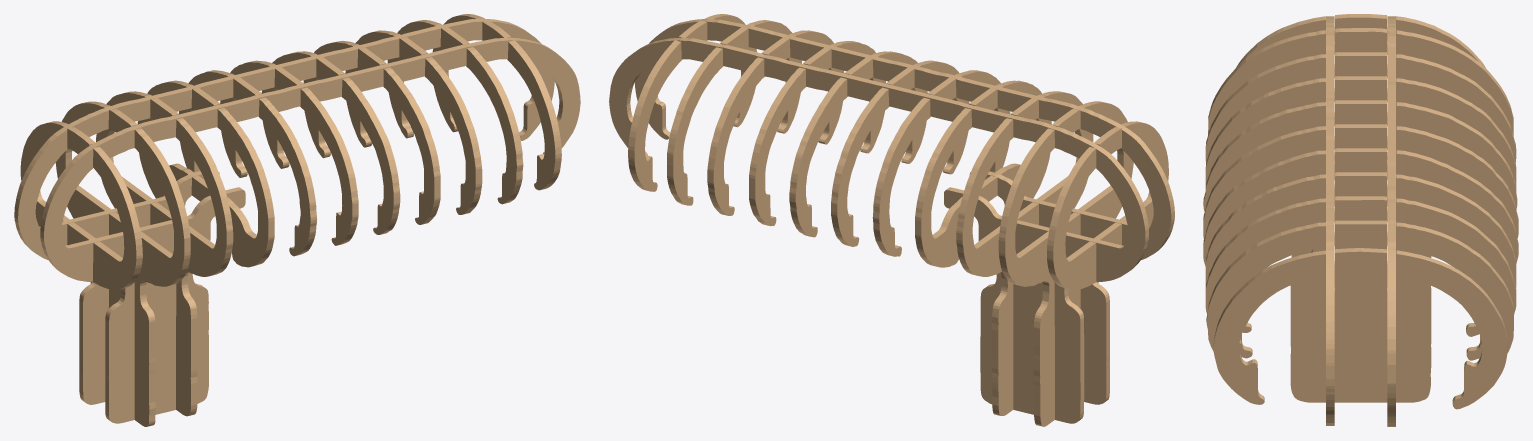
Rendered from samla.glb.
The picture shows the model from 3 angles, left to right: view 1: azimuth 30°, elevation 25°; view 2: azimuth 150°, elevation 25°; view 3: azimuth 270°, elevation 25°; orthographic projection. The views are drawn at different scales.
Visible parts, largest first — view 1: slicer-pillestemning; view 2: slicer-pillestemning; view 3: slicer-pillestemning.
Boxes of the visible parts, left/top/right/bottom form: slicer-pillestemning: left=14, top=14, right=580, bottom=426; slicer-pillestemning: left=609, top=14, right=1174, bottom=426; slicer-pillestemning: left=1203, top=14, right=1518, bottom=426.
Bounding box in the file's own units: 0.3362 × 0.1749 × 0.1441.
